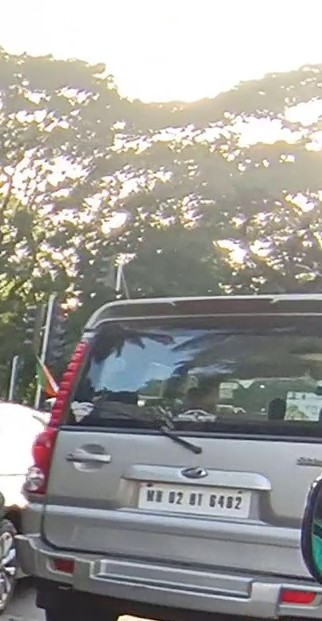MH02BT6482: (138, 478, 252, 516)
